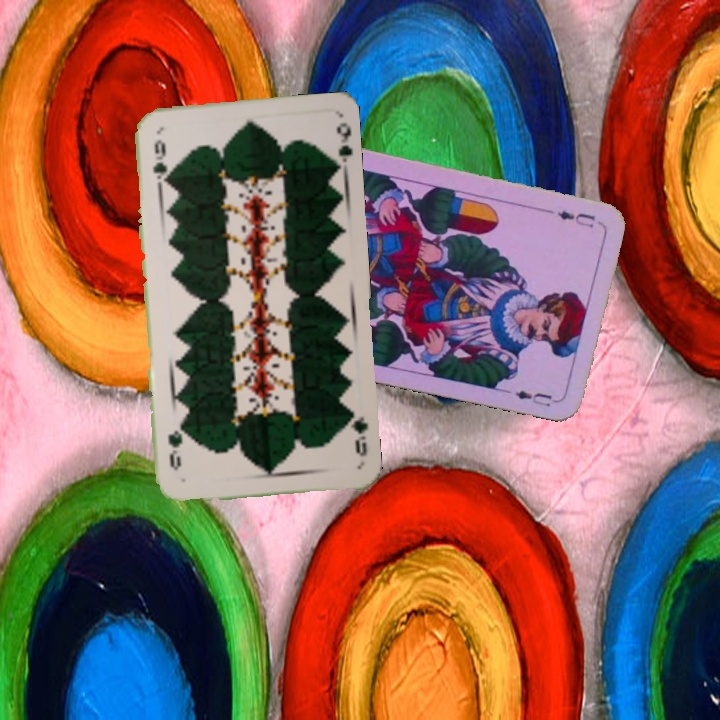EU: (541, 205, 597, 230)
G9: (344, 407, 371, 459), (149, 135, 169, 188)
